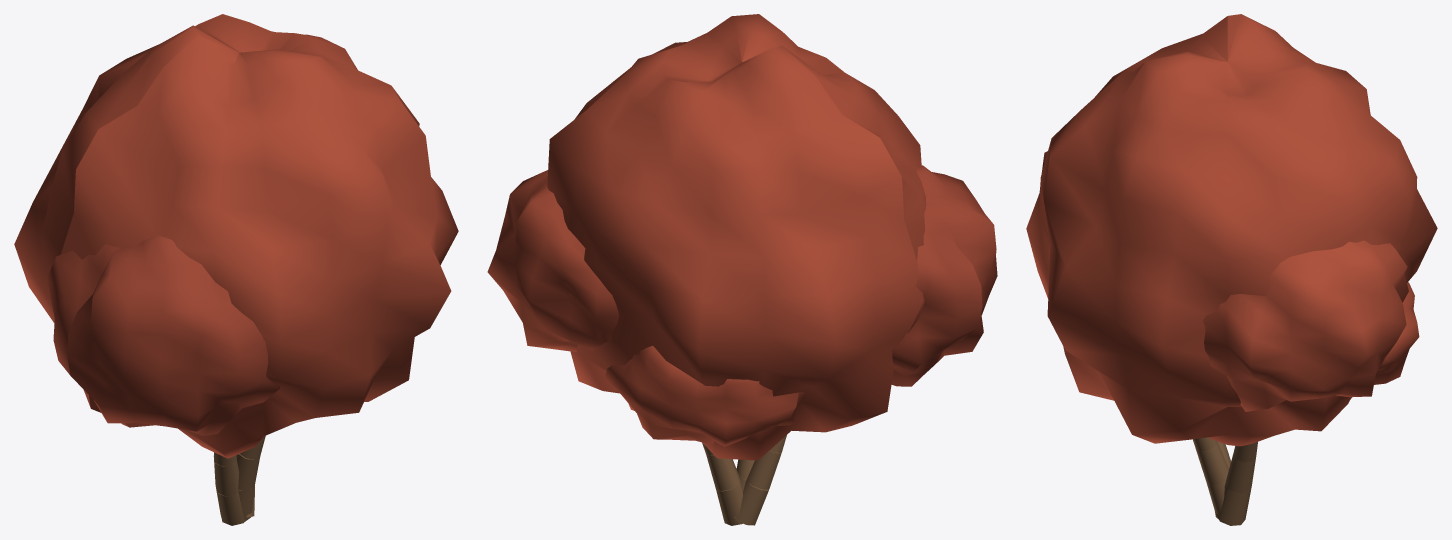
Rendered from husos-som-osz.glb.
3 renders of one model, left to right at view 1: azimuth 30°, elevation 25°; view 2: azimuth 150°, elevation 25°; view 3: azimuth 270°, elevation 25°, orthographic. The views are drawn at different scales.
Parts seen in each view (by area): view 1: korona-1, korona-2, to-1-2, to-1-1, to-3-2; view 2: korona-1, korona-3, korona-2, korona-5, to-1-1, to-1-2, to-2-2, to-2-1; view 3: korona-1, korona-3, korona-5, to-2-1, to-3-2, to-2-2.
Boxes of the visible parts, x1=… form: korona-1: x1=14, y1=14, x2=458, y2=458; korona-2: x1=47, y1=235, x2=280, y2=435; to-1-2: x1=214, y1=458, x2=239, y2=496; to-1-1: x1=216, y1=488, x2=245, y2=525; to-3-2: x1=236, y1=454, x2=260, y2=491; korona-1: x1=547, y1=14, x2=926, y2=460; korona-3: x1=487, y1=170, x2=619, y2=352; korona-2: x1=891, y1=165, x2=997, y2=386; korona-5: x1=604, y1=345, x2=805, y2=446; to-1-1: x1=735, y1=481, x2=768, y2=525; to-1-2: x1=746, y1=450, x2=781, y2=489; to-2-2: x1=706, y1=454, x2=739, y2=490; to-2-1: x1=716, y1=481, x2=742, y2=525; korona-1: x1=1026, y1=14, x2=1437, y2=446; korona-3: x1=1203, y1=240, x2=1408, y2=411; korona-5: x1=1350, y1=282, x2=1419, y2=399; to-2-1: x1=1216, y1=484, x2=1251, y2=525; to-3-2: x1=1196, y1=442, x2=1228, y2=485; to-2-2: x1=1225, y1=454, x2=1255, y2=493.
Bounding box in the file's own units: 4.74 × 5.42 × 4.14.
